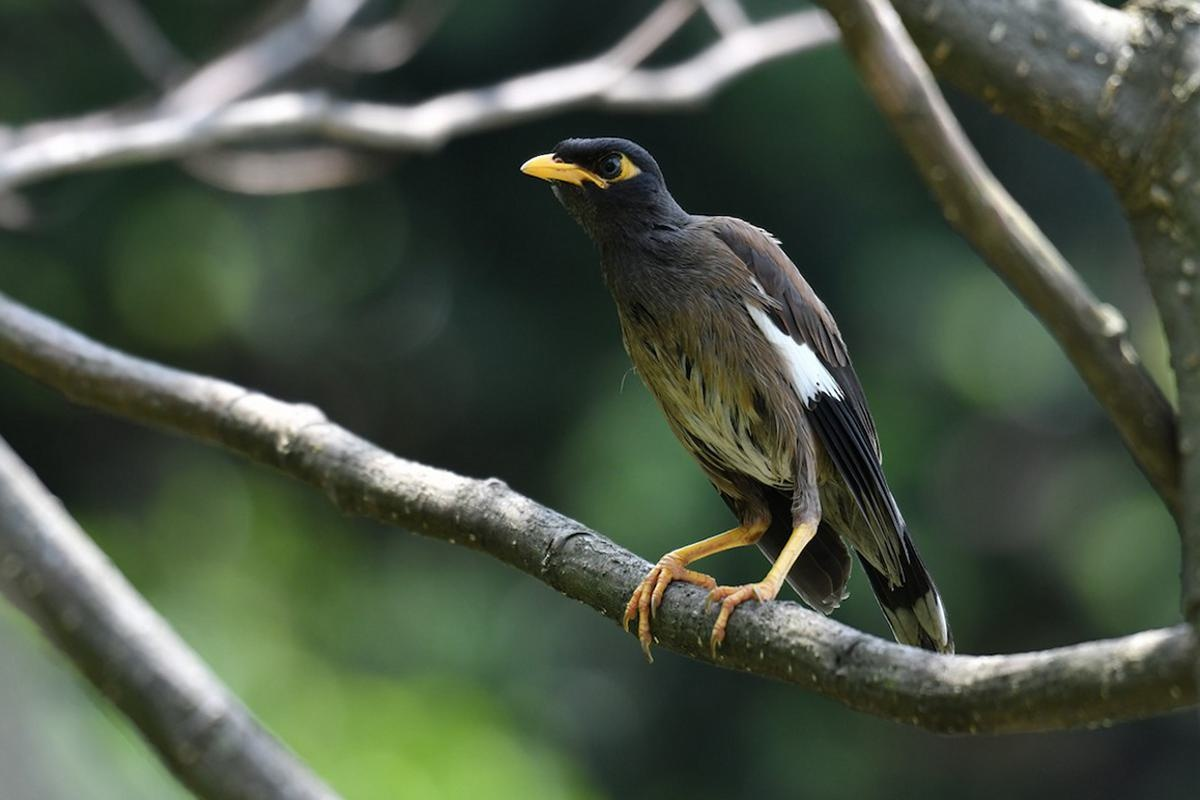myna: (500, 110, 951, 691)
